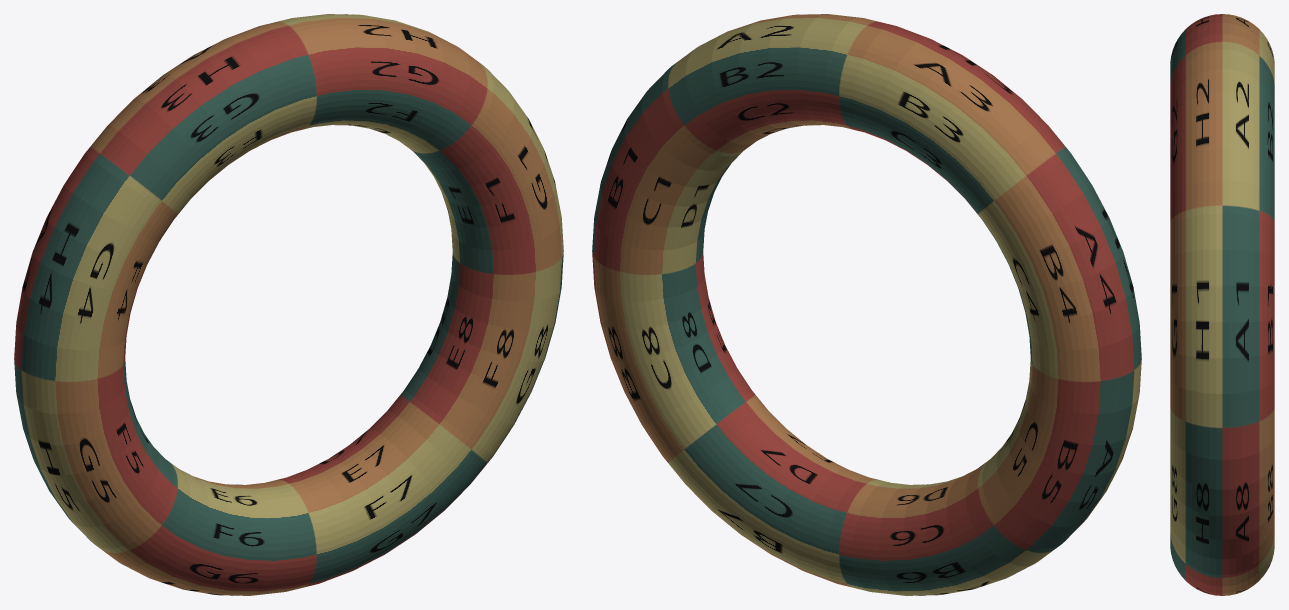
File: texture_torus_R26_r15.glb
3 views of the same model, side by side, from view 1: azimuth 30°, elevation 25°; view 2: azimuth 150°, elevation 25°; view 3: azimuth 270°, elevation 25° (orthographic). The views are drawn at different scales.
Visible parts, largest first — view 1: world; view 2: world; view 3: world.
Part boxes in pixels (left/top/right/bottom): world: left=14, top=14, right=563, bottom=595; world: left=592, top=14, right=1141, bottom=595; world: left=1170, top=14, right=1274, bottom=595.
Size of the model in its own units: 33.33 by 33.27 by 5.99.
Materials: 1 (1 with a texture image).
